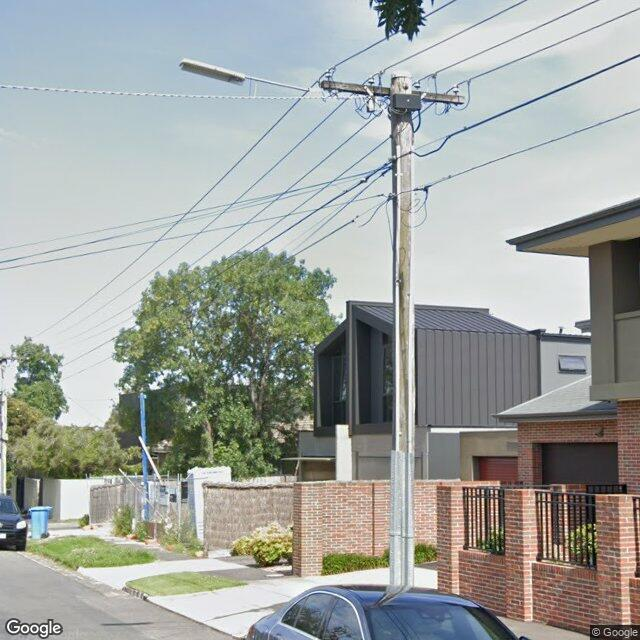crossarm: (320, 80, 465, 104), (0, 355, 30, 361)
streetlight: (179, 58, 322, 94)
timber-pole: (390, 71, 415, 588), (0, 355, 6, 496)
